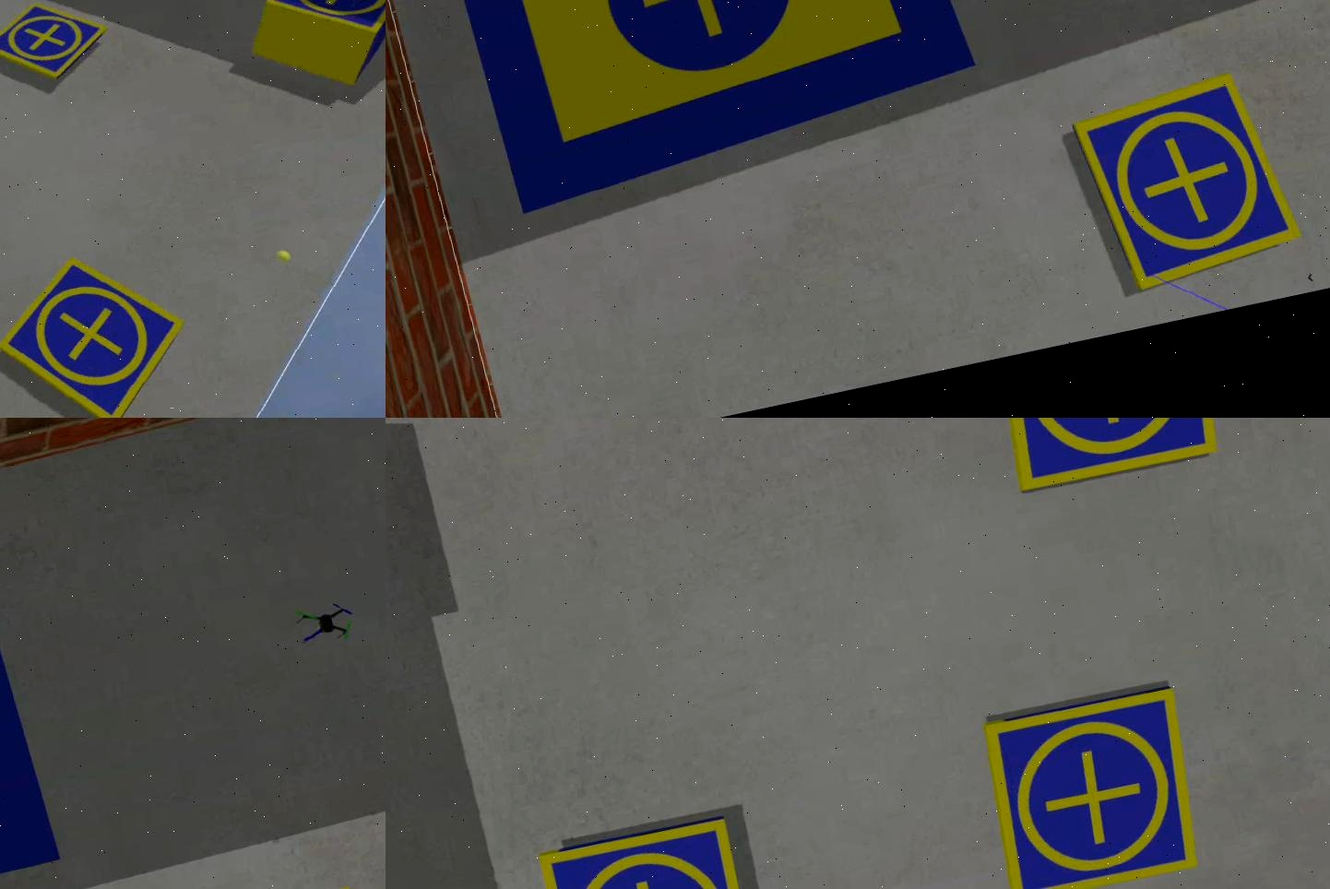large_base: (431, 1, 988, 218)
small_base: (1070, 69, 1311, 301), (977, 683, 1213, 889), (1, 238, 207, 419), (977, 419, 1243, 499), (537, 813, 766, 889), (1, 1, 116, 95), (257, 1, 386, 59)
